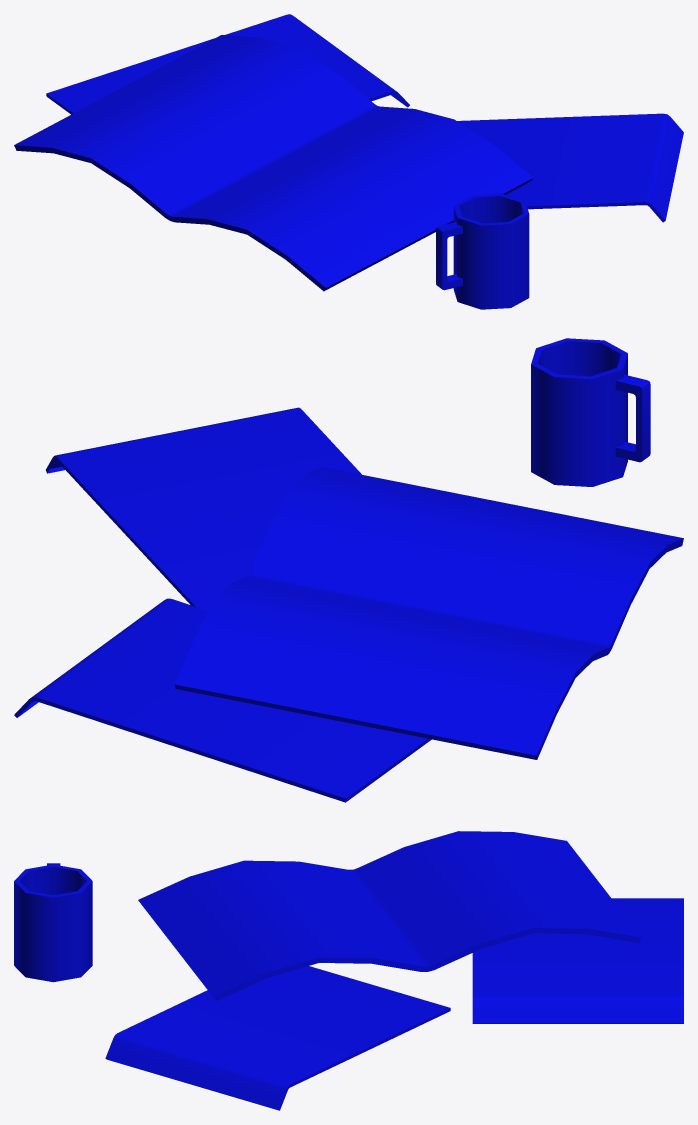
The model's file is ClutterPile_Rec_3.FBX.
3 views of the same model, one above another, from view 1: azimuth 30°, elevation 25°; view 2: azimuth 150°, elevation 25°; view 3: azimuth 270°, elevation 25° (orthographic). The views are drawn at different scales.
Visible parts, largest first — view 1: ClutterPile_Rec_3; view 2: ClutterPile_Rec_3; view 3: ClutterPile_Rec_3.
Boxes of the visible parts, x1=… form: ClutterPile_Rec_3: x1=14, y1=14, x2=683, y2=309; ClutterPile_Rec_3: x1=14, y1=338, x2=683, y2=802; ClutterPile_Rec_3: x1=14, y1=831, x2=683, y2=1110.
Size of the model in its own units: 17.35 by 2.66 by 19.02.
